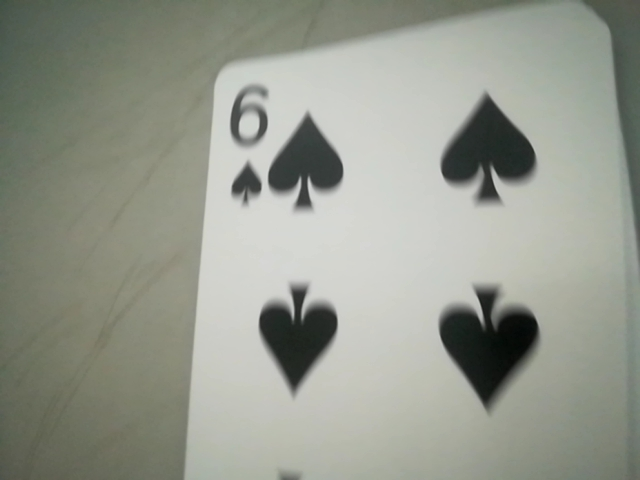ht 6: (210, 73, 283, 219)
